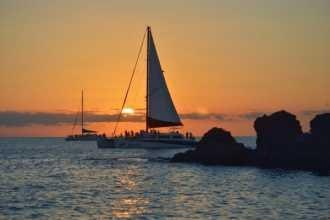fanchuan: (96, 19, 215, 148)
